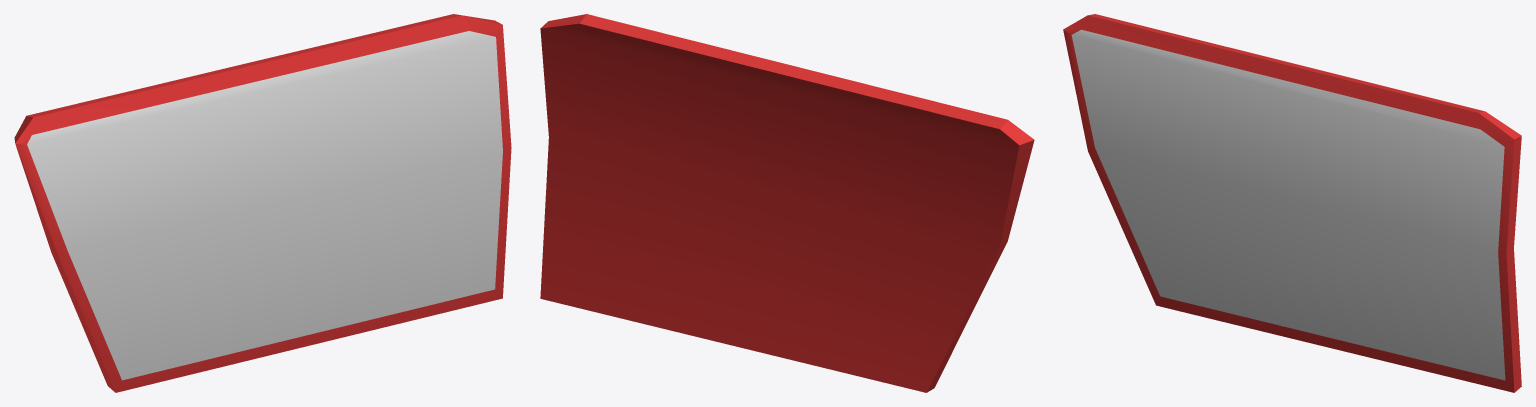
File: door.fbx
3 renders of one model, left to right at view 1: azimuth 30°, elevation 25°; view 2: azimuth 150°, elevation 25°; view 3: azimuth 330°, elevation 25°, orthographic. The views are drawn at different scales.
Parts seen in each view (by area): view 1: RightDoor; view 2: RightDoor; view 3: RightDoor.
Part boxes in pixels (<box>): RightDoor: <box>14,14,511,392</box>; RightDoor: <box>540,14,1034,392</box>; RightDoor: <box>1063,14,1521,392</box>.
Size of the model in its own units: 235 by 134 by 17.34.
